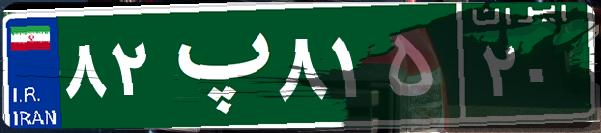0: (525, 38, 570, 115)
1: (330, 28, 385, 110)
2: (475, 38, 525, 113), (110, 28, 158, 105)
5: (385, 28, 445, 110)
8: (273, 28, 330, 110), (57, 26, 110, 107)
پ: (158, 15, 273, 115)
